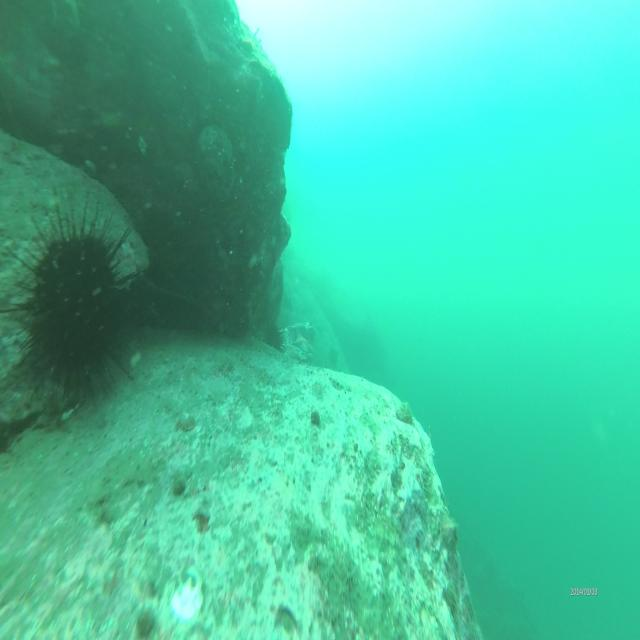echinus: (0, 180, 146, 410), (263, 311, 289, 352)
